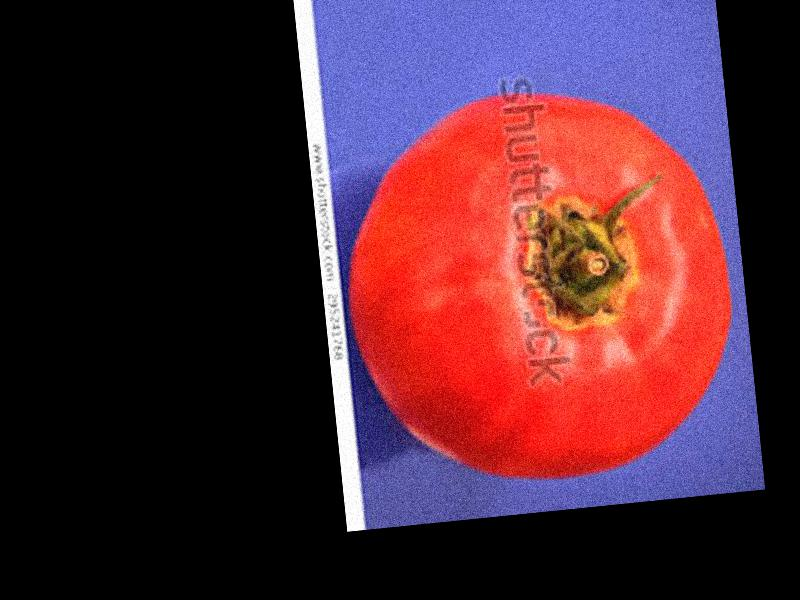Tomato: (338, 74, 747, 498)
